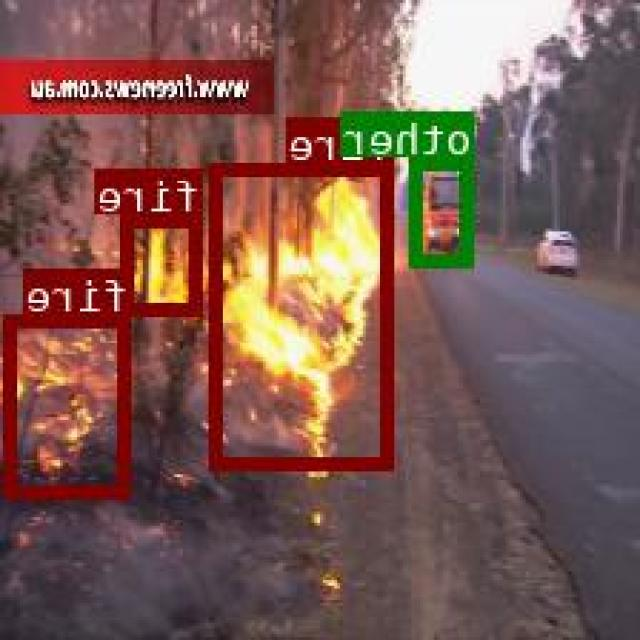fire: (214, 162, 397, 466), (7, 312, 131, 495), (124, 214, 204, 313)
other: (413, 155, 477, 263)
